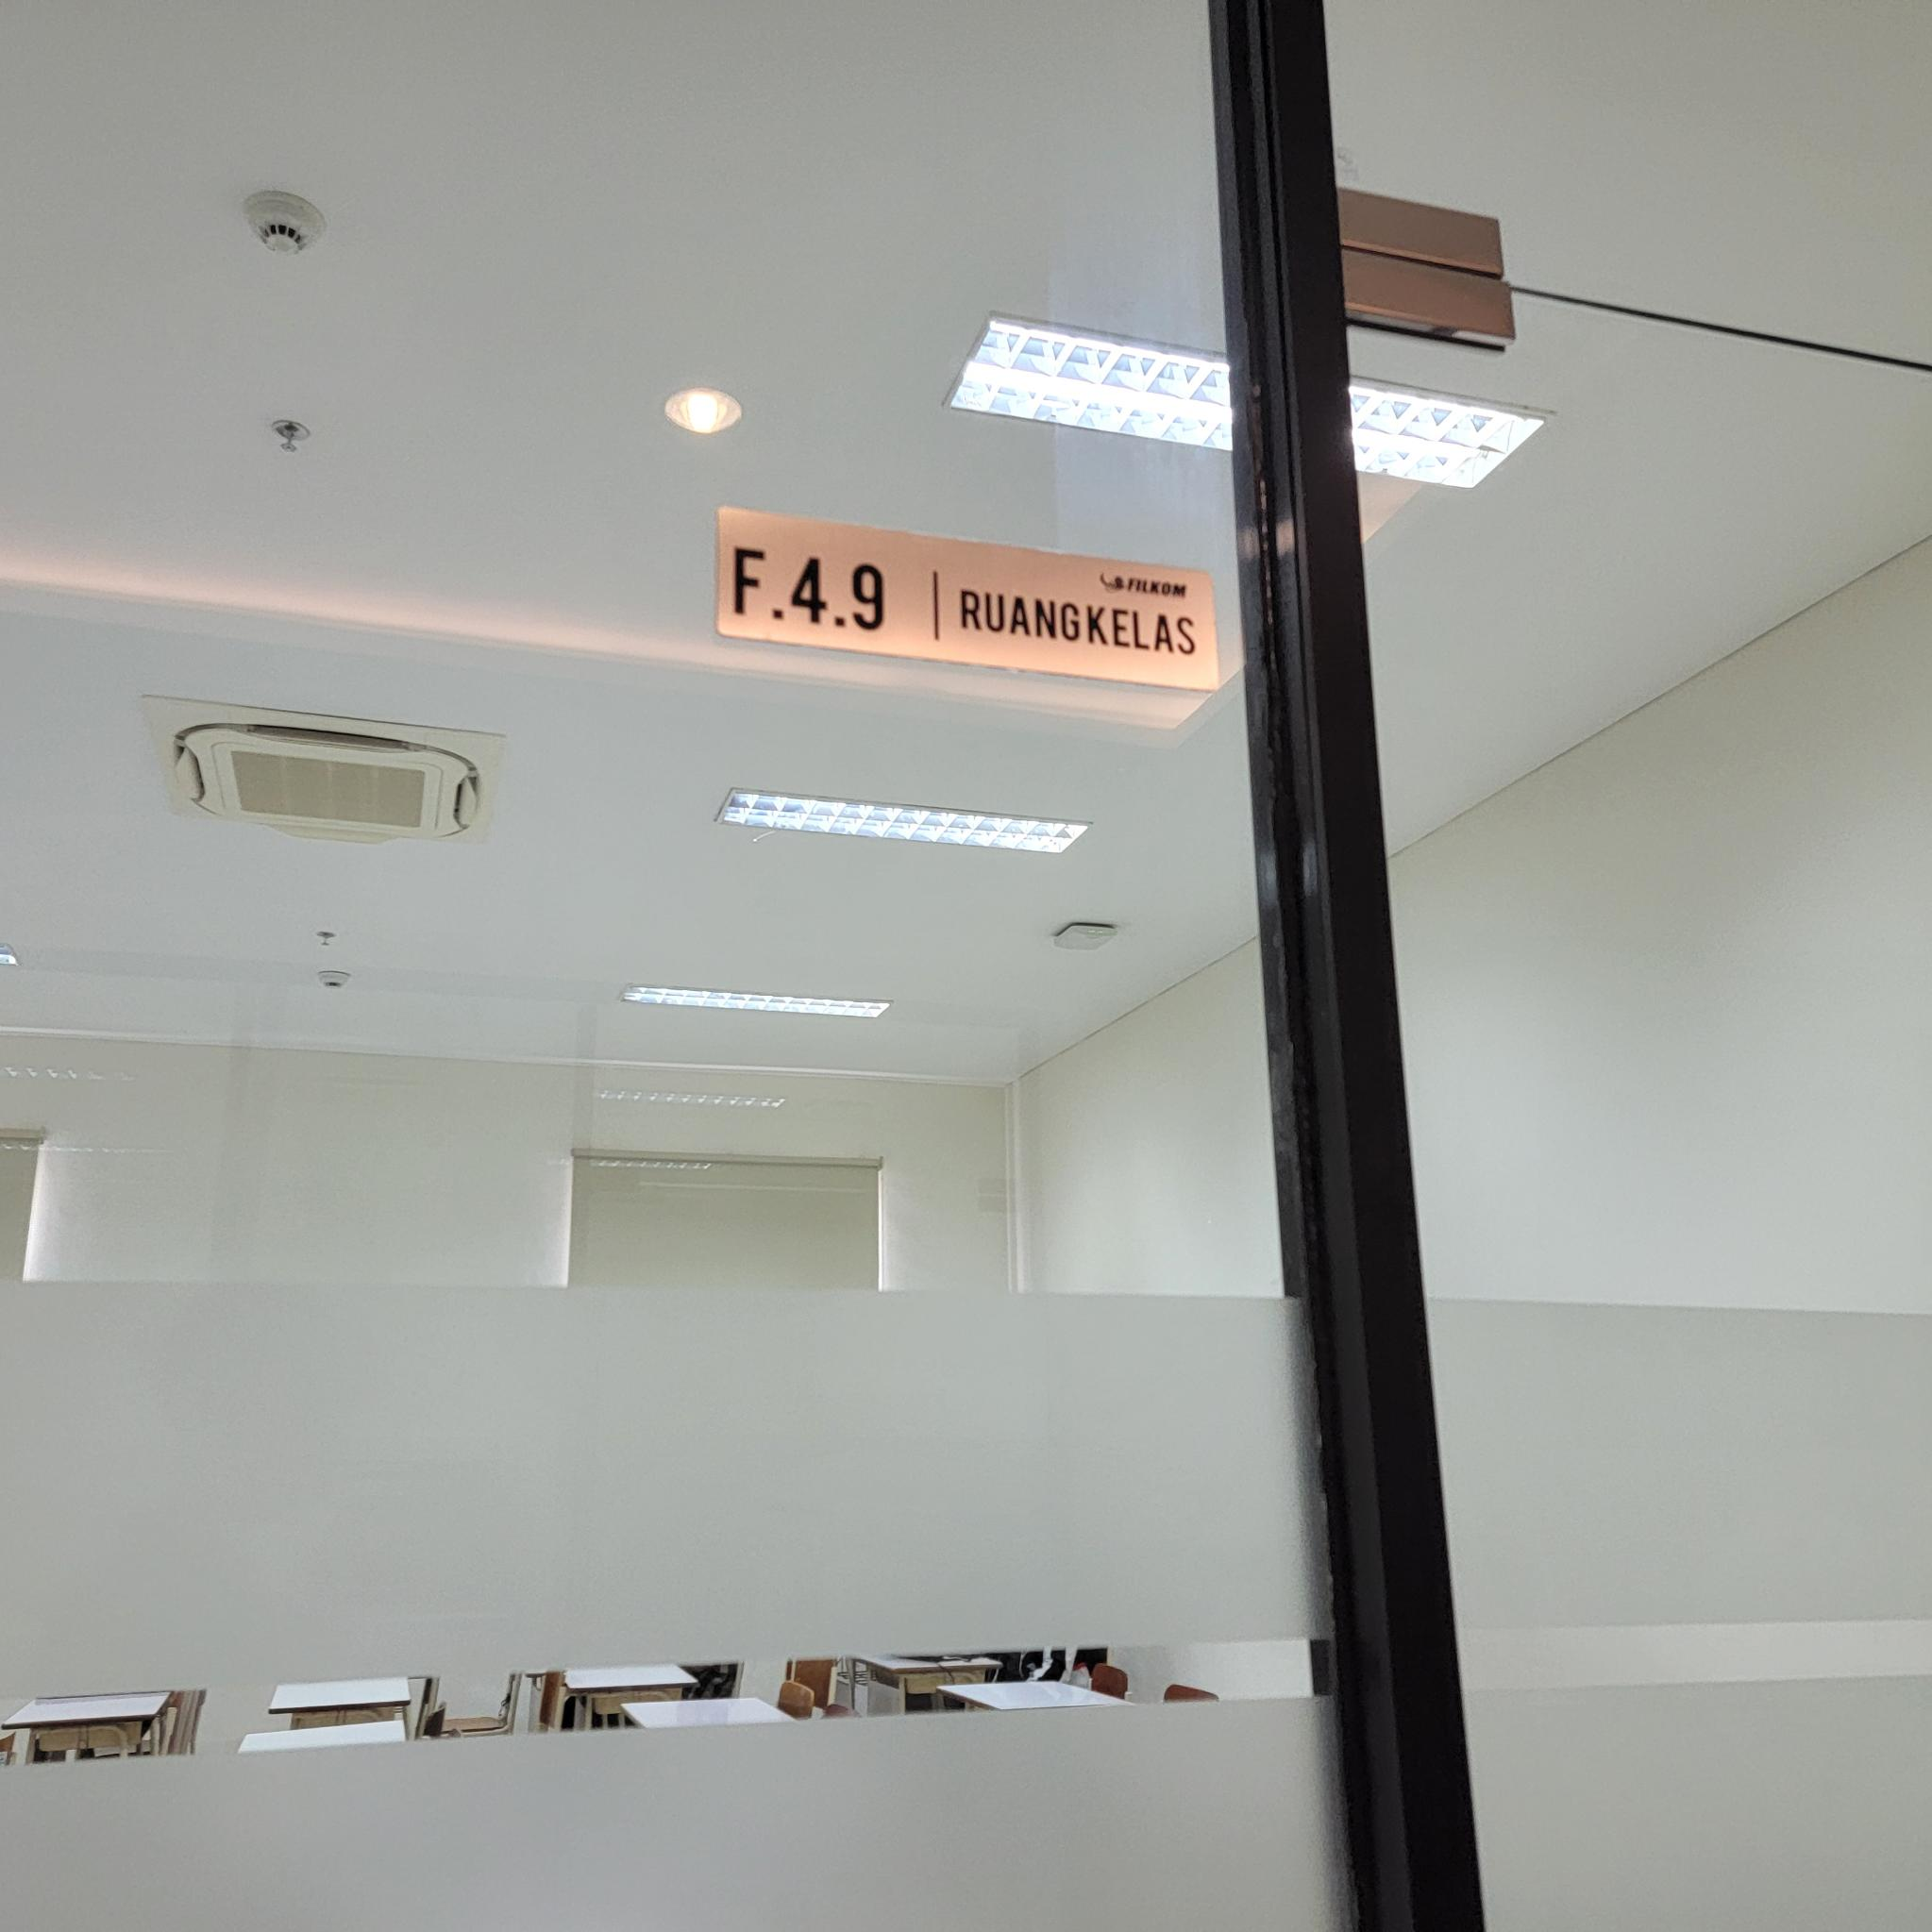plate: (717, 501, 1221, 694)
